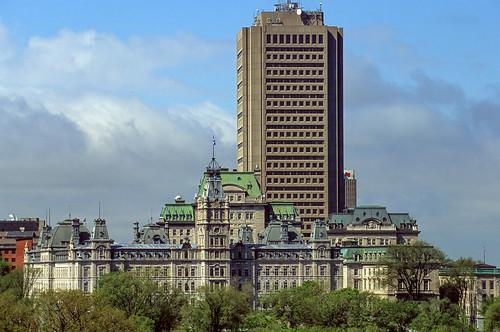building: (231, 0, 354, 238)
